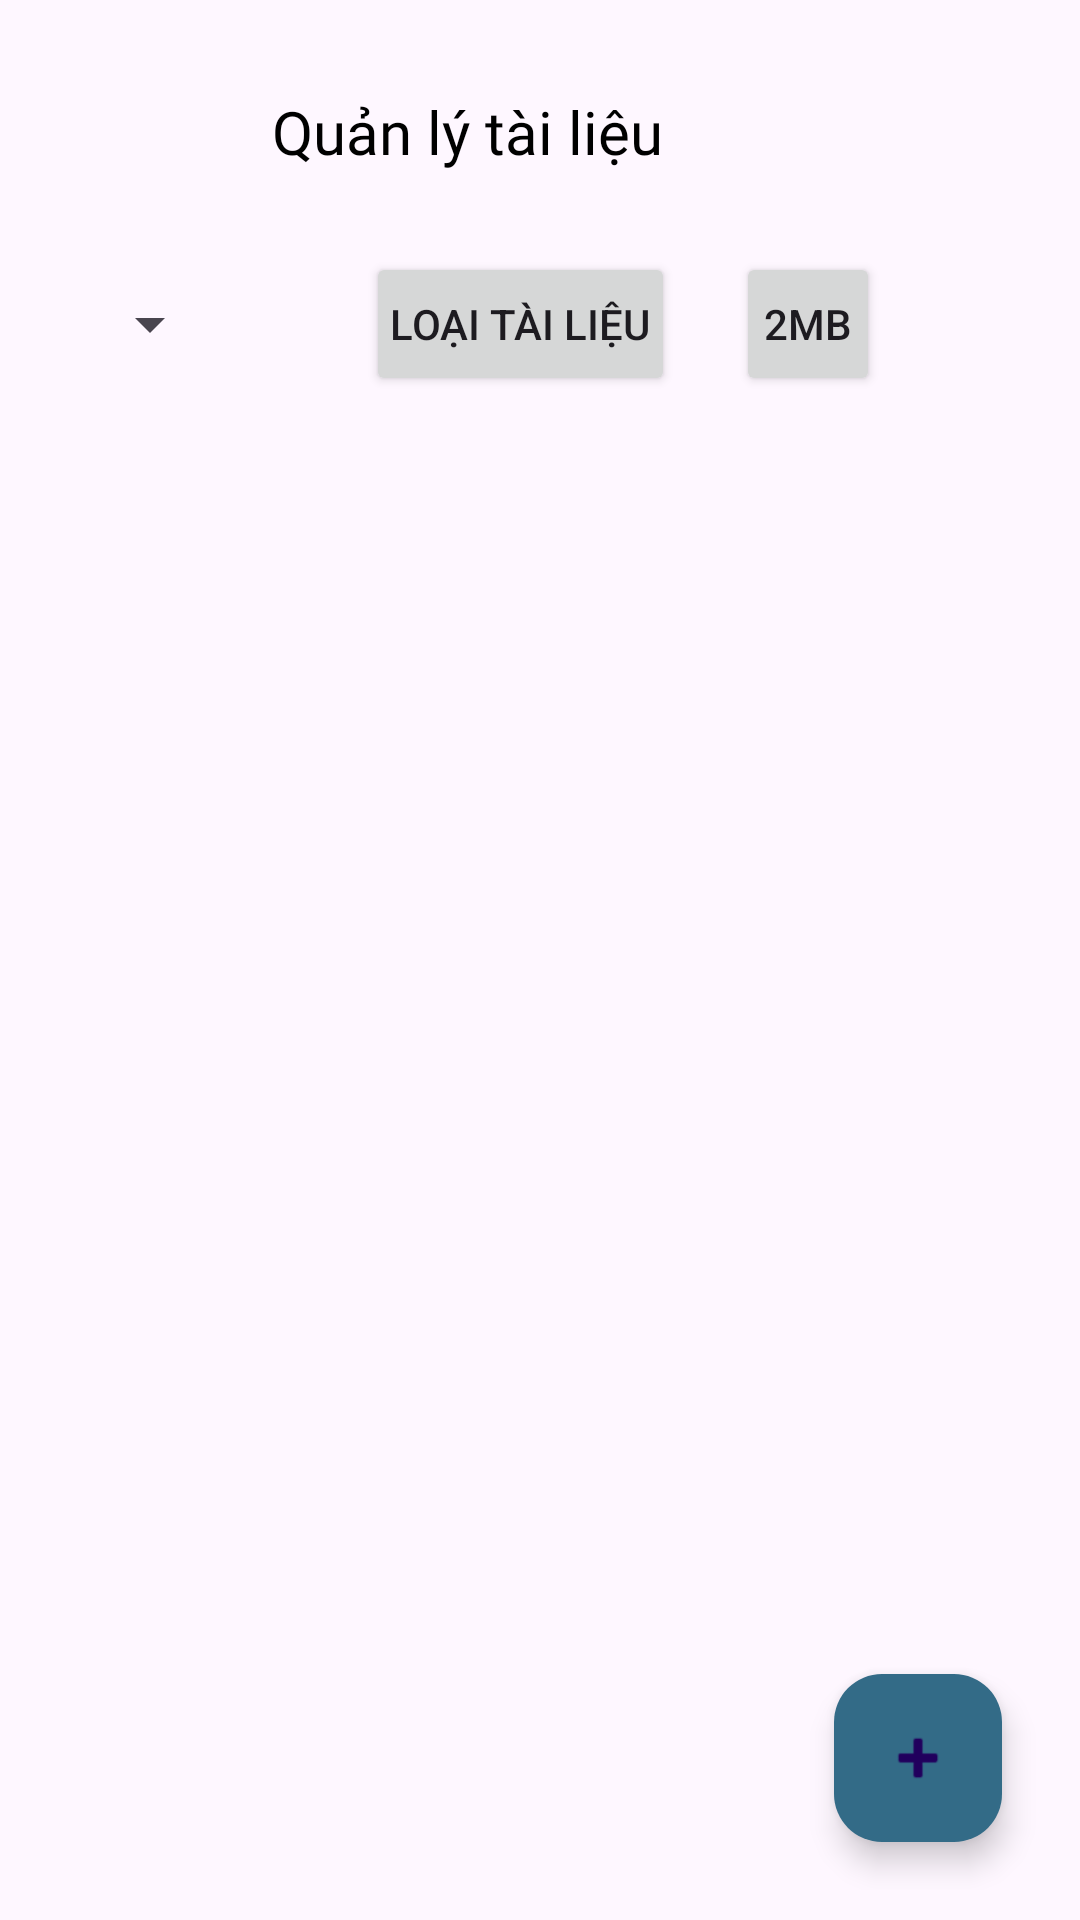

Named icons in this screenshot (1080×1920) and their bounding boxes, bbox=(x1, y1, x2, y2):
Thêm tài liệu: bbox=(834, 1674, 1002, 1842)
